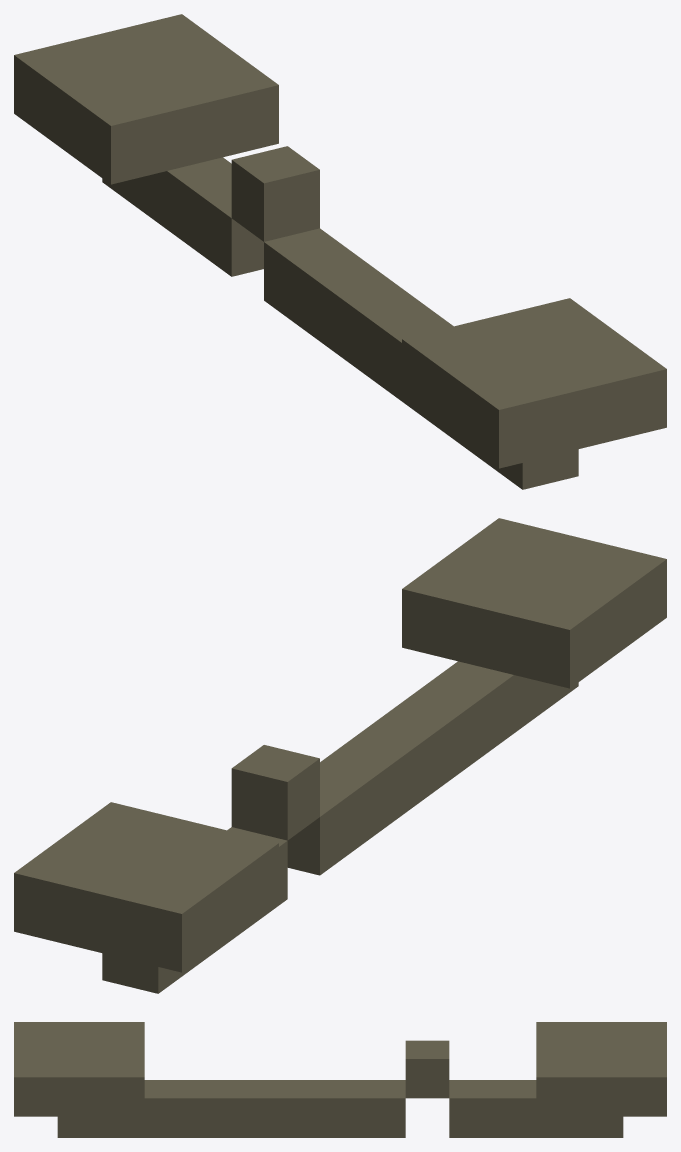
File: plates.gltf
3 renders of one model, top to bottom at view 1: azimuth 30°, elevation 25°; view 2: azimuth 150°, elevation 25°; view 3: azimuth 270°, elevation 25°, orthographic. The views are drawn at different scales.
Parts seen in each view (by area): view 1: Layer.1; view 2: Layer.1; view 3: Layer.1.
Part boxes in pixels (x1,y1,x2,y2): Layer.1: [14, 14, 666, 489]; Layer.1: [14, 518, 666, 993]; Layer.1: [14, 1022, 666, 1137].
Size of the model in its own units: 3 by 2 by 15.
Materials: 1 (1 with a texture image).
